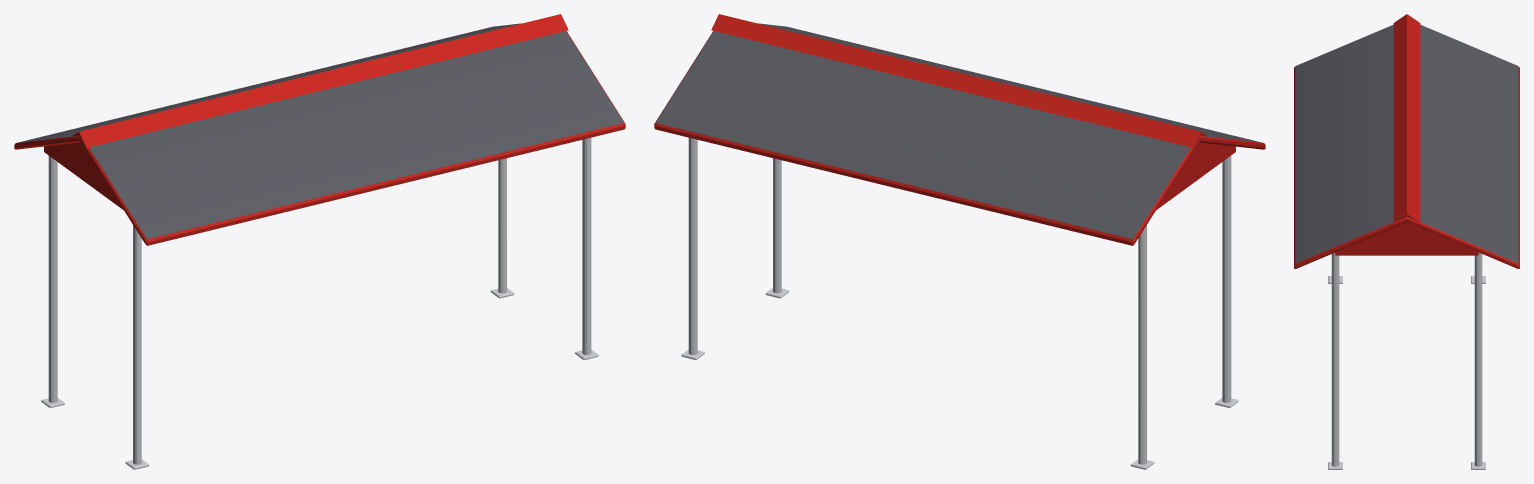
The model's file is techo_dos_aguas_mediano.glb.
The picture shows the model from 3 angles, left to right: view 1: azimuth 30°, elevation 25°; view 2: azimuth 150°, elevation 25°; view 3: azimuth 270°, elevation 25°; orthographic projection. The views are drawn at different scales.
Parts seen in each view (by area): view 1: pieza_tramo, pieza_punta_izq, pieza_punta_der; view 2: pieza_tramo, pieza_punta_izq, pieza_punta_der; view 3: pieza_tramo, pieza_punta_der, pieza_punta_izq.
Part boxes in pixels (x1=…): pieza_tramo: x1=73, y1=28, x2=568, y2=231; pieza_punta_izq: x1=14, y1=117, x2=203, y2=469; pieza_punta_der: x1=439, y1=14, x2=625, y2=360; pieza_tramo: x1=711, y1=28, x2=1206, y2=231; pieza_punta_izq: x1=1076, y1=117, x2=1265, y2=469; pieza_punta_der: x1=654, y1=14, x2=840, y2=360; pieza_tramo: x1=1294, y1=38, x2=1519, y2=241; pieza_punta_der: x1=1294, y1=189, x2=1519, y2=469; pieza_punta_izq: x1=1294, y1=14, x2=1519, y2=283.
Size of what is drawn, in the model's own units: 2.51 by 1.53 by 1.2.
